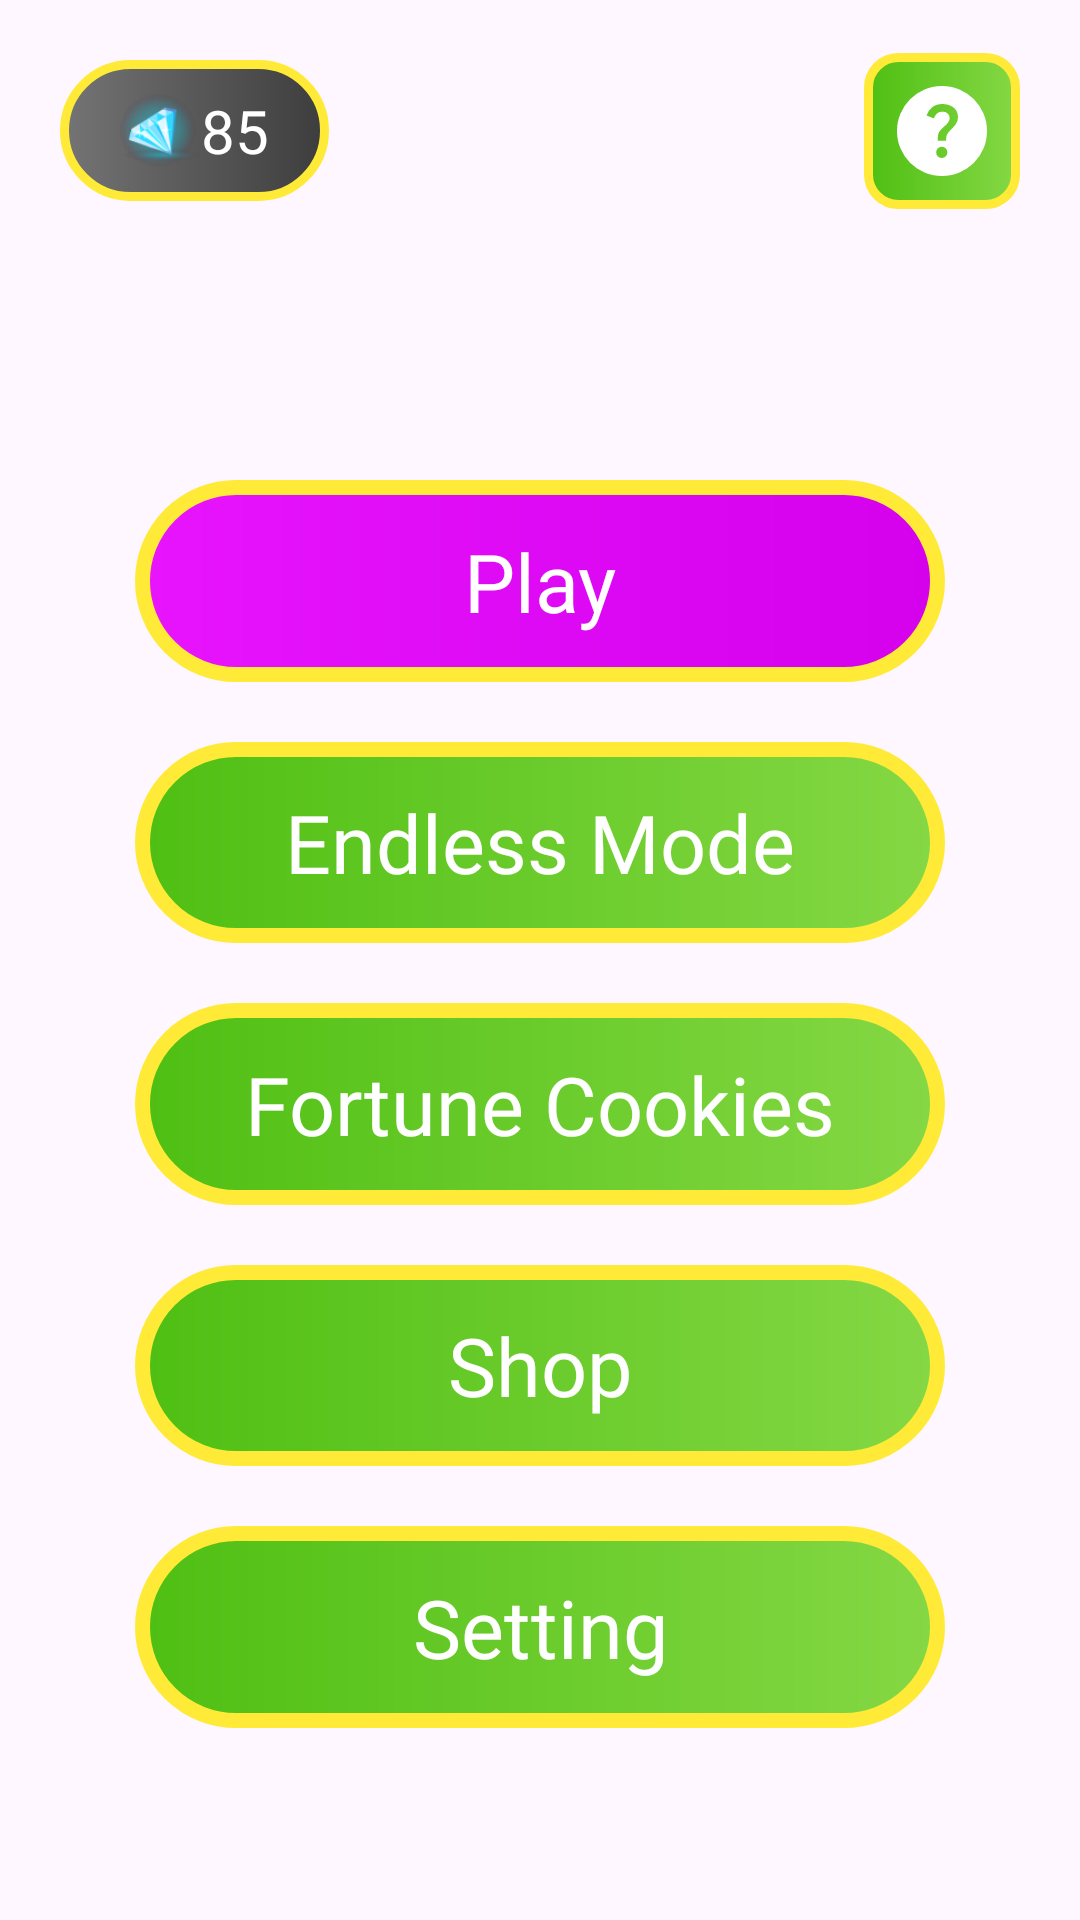

Icons on this 1080 x 1920 Android screen, each with its box as (x1, y1, x2, y2):
help empty: (864, 53, 1020, 209)
